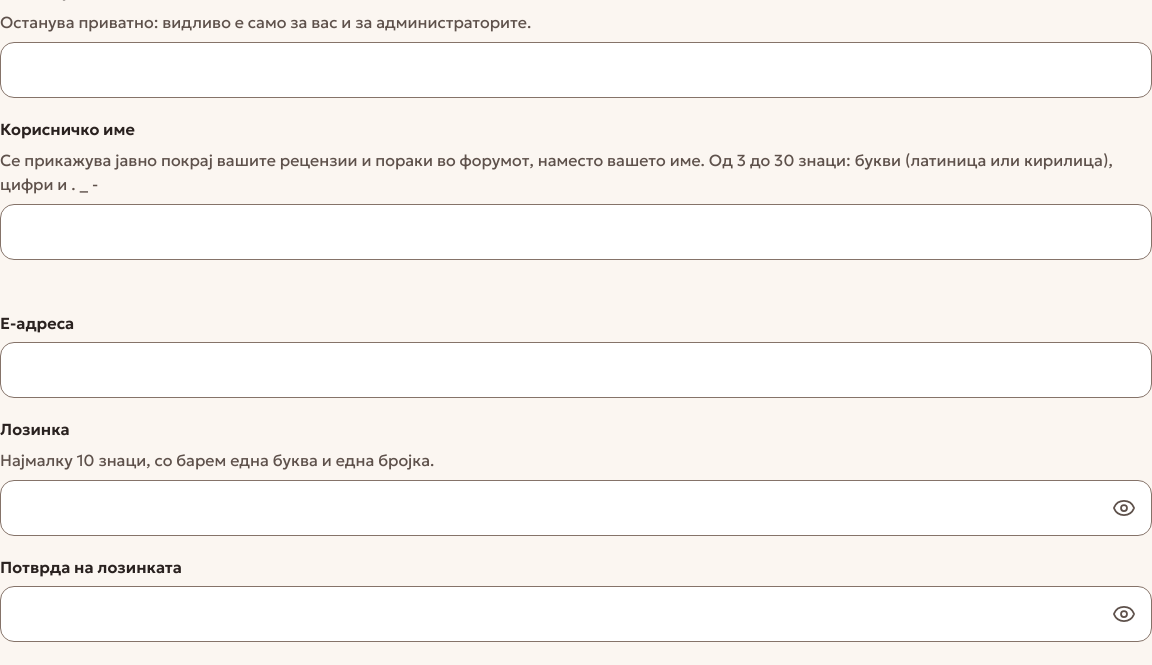
Test: RegisterForm › checks required fields and the e-mail shape in Macedonian, not with browser bubbles
Type "ana@" into the field labelled "Е-адреса" at (576, 370), box x1=0 y1=342 x2=1151 y2=398
(page scrolled)
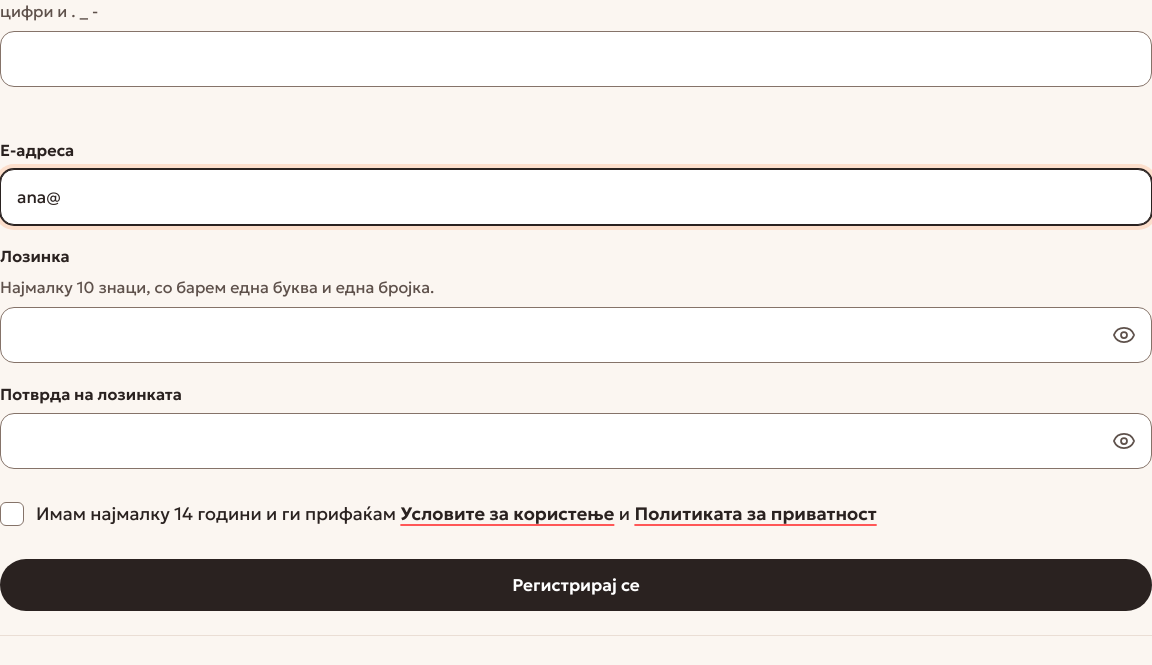
Click the button "Регистрирај се" at (576, 585), box x1=0 y1=559 x2=1151 y2=611
(page scrolled)
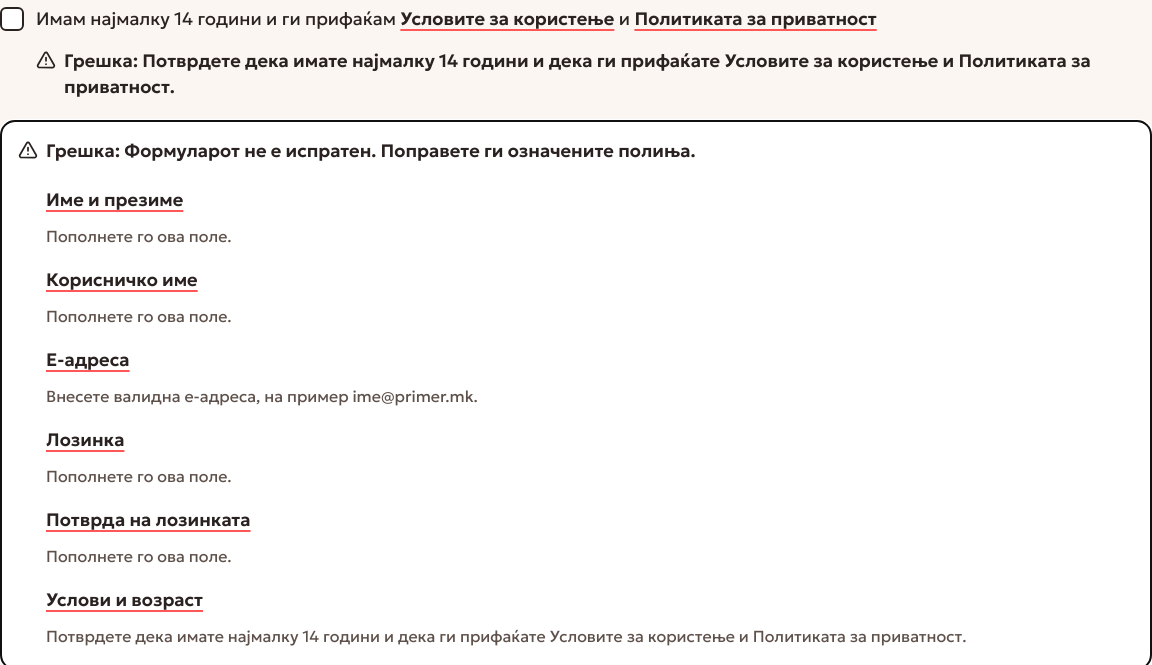
Now the link "Име и презиме" is shown, box x1=46 y1=188 x2=183 y2=211
Now the link "Е-адреса" is shown, box x1=46 y1=348 x2=130 y2=371
Now the link "Лозинка" is shown, box x1=46 y1=428 x2=124 y2=451
